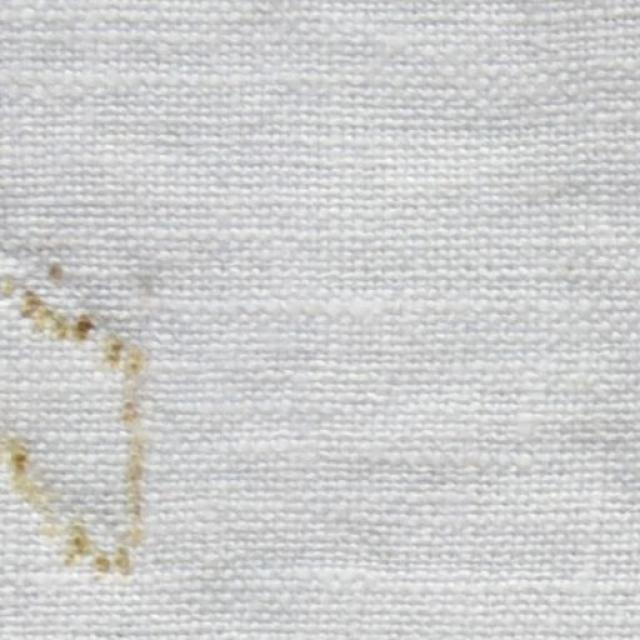Stain: (0, 252, 168, 577)
